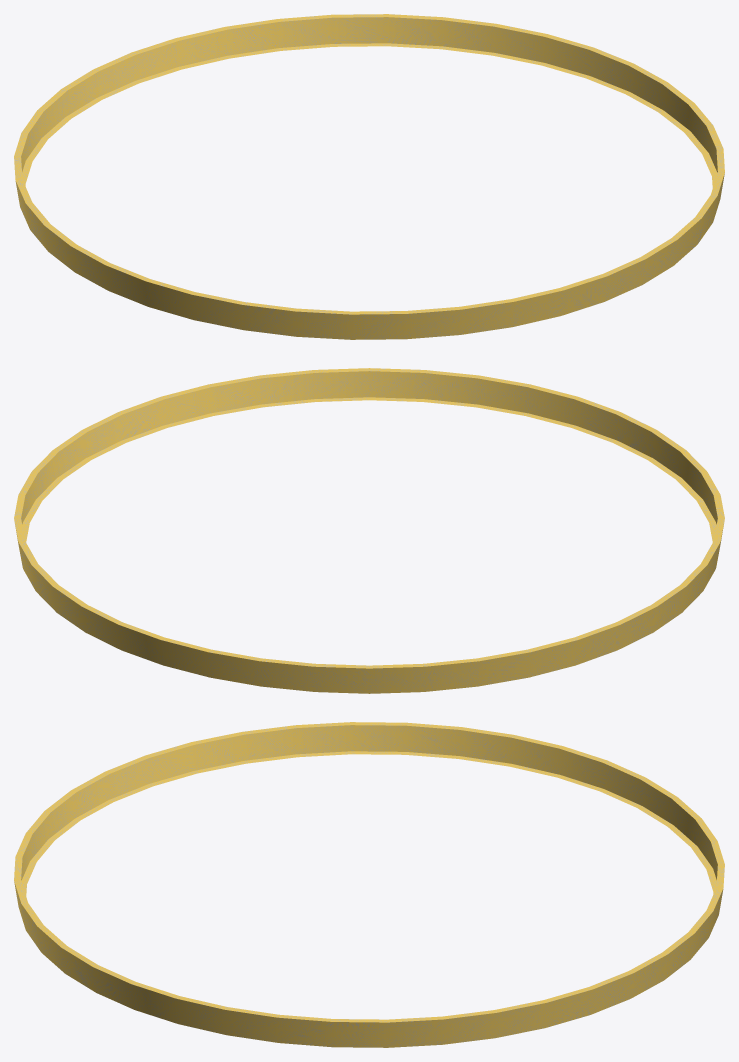
The model's file is original-24.obj.
3 renders of one model, top to bottom at view 1: azimuth 30°, elevation 25°; view 2: azimuth 150°, elevation 25°; view 3: azimuth 270°, elevation 25°, orthographic.
Visible parts, largest first — view 1: #ID187; view 2: #ID187; view 3: #ID187.
Boxes of the visible parts, <box> form: #ID187: <box>14,14,724,339</box>; #ID187: <box>14,368,724,693</box>; #ID187: <box>14,722,724,1047</box>.
Size of the model in its own units: 0.7664 by 0.0324 by 0.7664.
